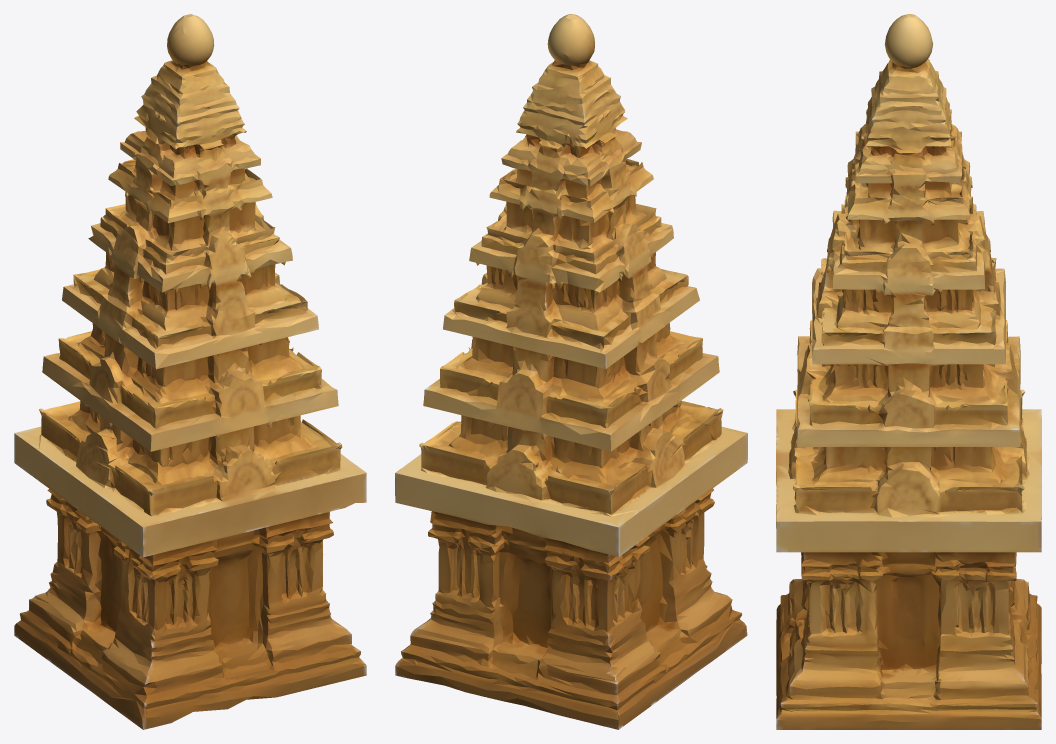
File: india_shikhara.glb
3 views of the same model, side by side, from view 1: azimuth 30°, elevation 25°; view 2: azimuth 150°, elevation 25°; view 3: azimuth 270°, elevation 25° (orthographic). The views are drawn at different scales.
Visible parts, largest first — view 1: india_shikhara; view 2: india_shikhara; view 3: india_shikhara.
Boxes of the visible parts, x1,y1,x2,y2 form: india_shikhara: (14, 14, 366, 729); india_shikhara: (395, 14, 747, 729); india_shikhara: (776, 14, 1041, 729).
Bounding box in the file's own units: 0.6948 × 1.9 × 0.6948.
Materials: 1 (1 with a texture image).
